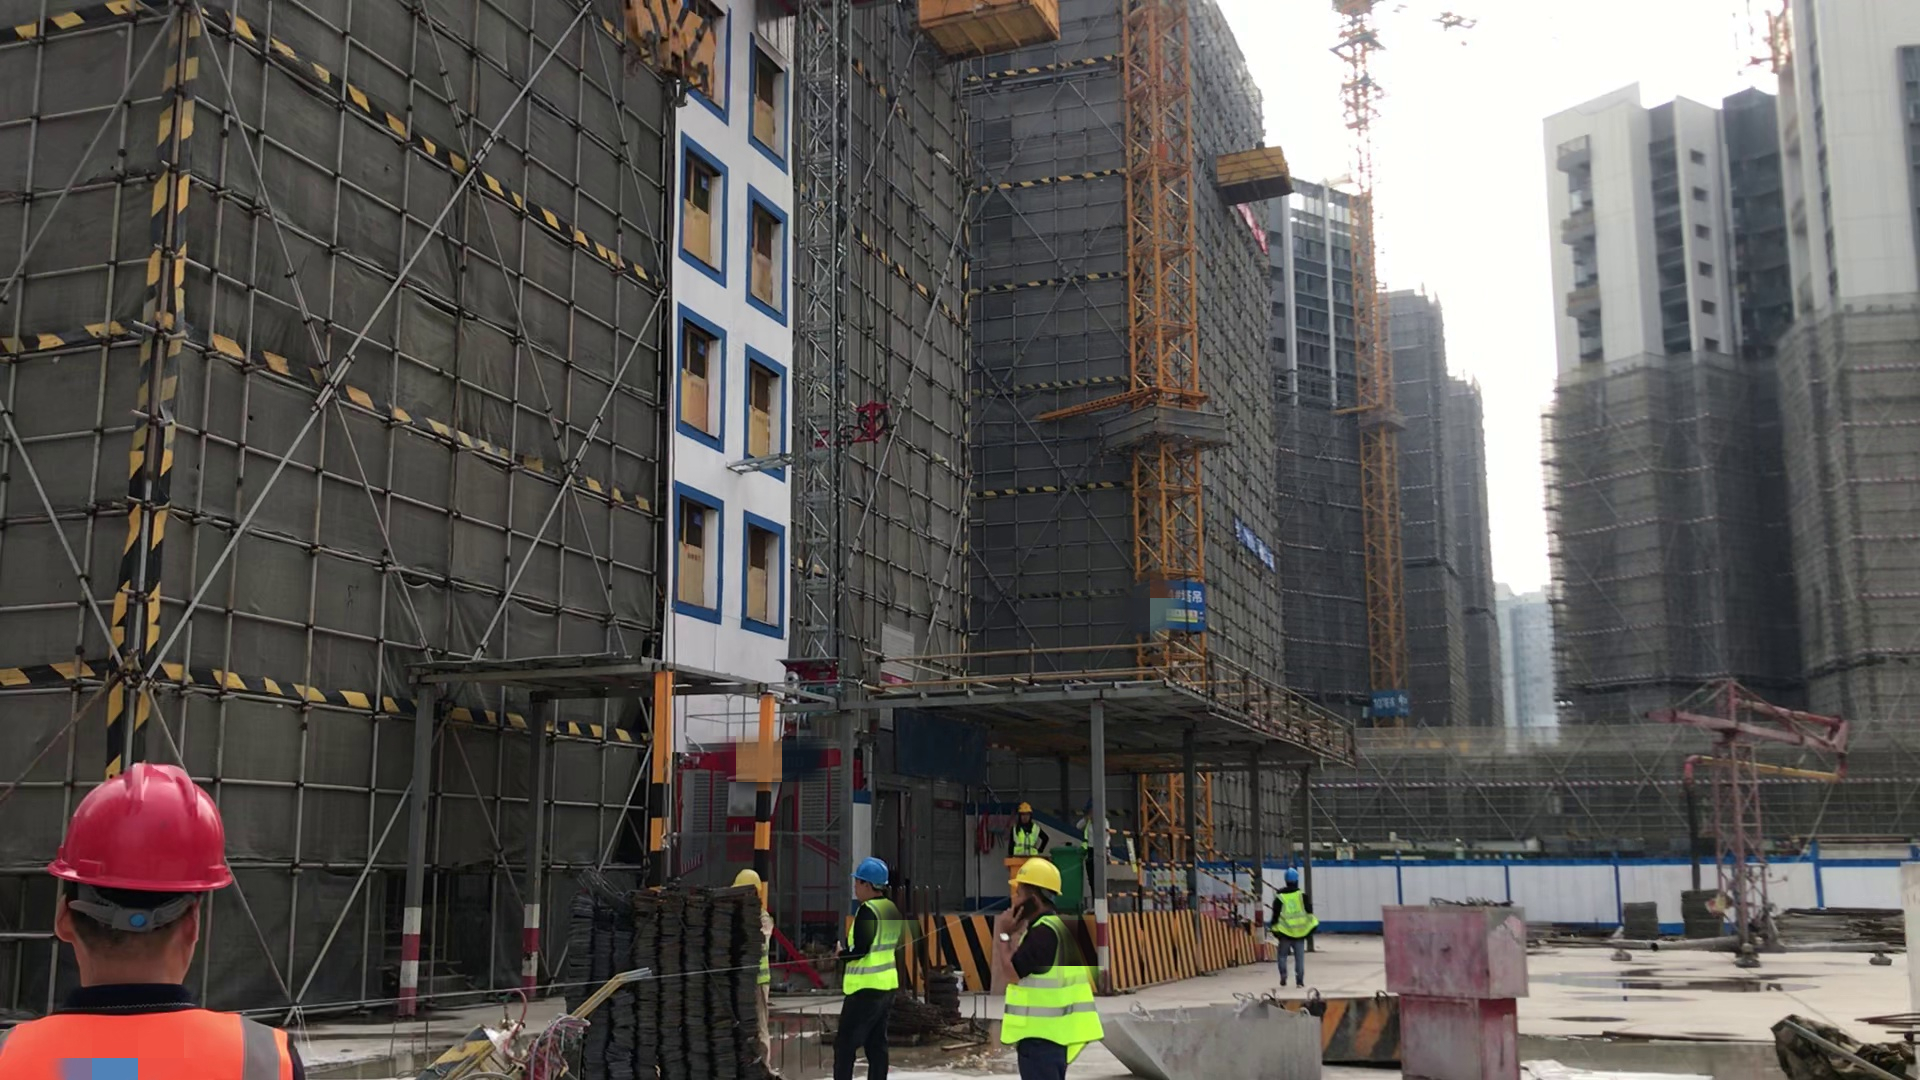fence: (1103, 835, 1293, 938)
handcart: (421, 956, 626, 1080)
helmet: (39, 756, 253, 903), (1007, 856, 1063, 904), (847, 853, 893, 893), (723, 864, 777, 894), (1013, 796, 1038, 822), (1278, 866, 1306, 886)
hook: (621, 1, 730, 125)
hopper: (1109, 992, 1319, 1080), (1311, 986, 1404, 1074)
person: (4, 743, 325, 1080), (982, 849, 1103, 1080), (828, 846, 924, 1080), (1260, 846, 1328, 993), (1000, 788, 1053, 871)
slogan: (1218, 502, 1285, 563)
vest: (13, 972, 297, 1080), (993, 909, 1102, 1056), (835, 896, 906, 1004), (1271, 891, 1320, 944), (1010, 817, 1046, 857)
